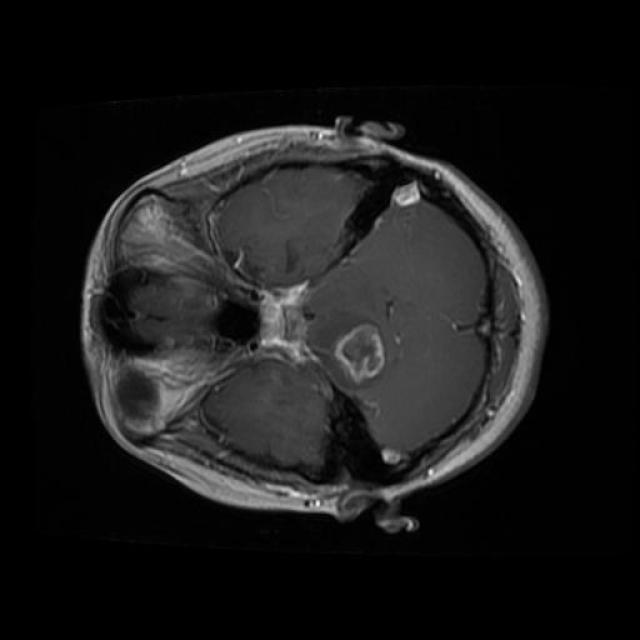Glioma: (320, 312, 387, 392)
